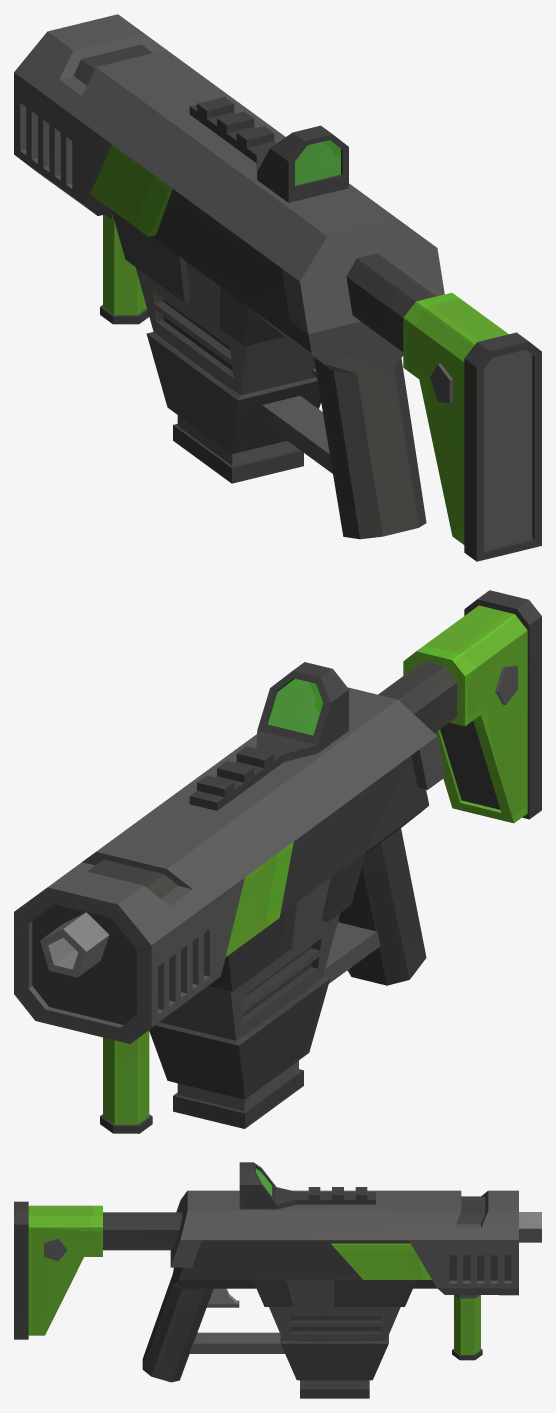
The model's file is rifle_2.glb.
3 renders of one model, top to bottom at view 1: azimuth 30°, elevation 25°; view 2: azimuth 150°, elevation 25°; view 3: azimuth 270°, elevation 25°, orthographic. The views are drawn at different scales.
Parts seen in each view (by area): view 1: fusil_2_texture_0; view 2: fusil_2_texture_0; view 3: fusil_2_texture_0.
Boxes of the visible parts, x1,y1,x2,y2 form: fusil_2_texture_0: [14, 14, 541, 561]; fusil_2_texture_0: [14, 590, 541, 1133]; fusil_2_texture_0: [14, 1162, 541, 1398].
Size of the model in its own units: 0.1174 by 0.3043 by 0.6571.
Materials: 1 (1 with a texture image).
